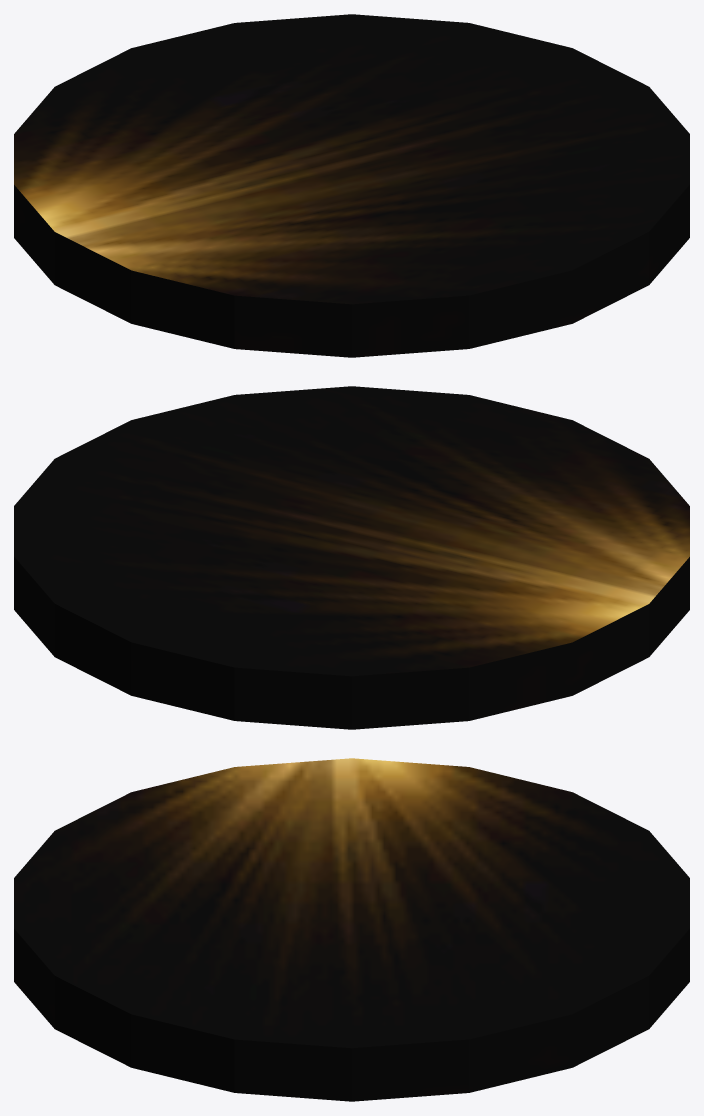
The model's file is world_jinbi2.obj.
The picture shows the model from 3 angles, top to bottom: view 1: azimuth 30°, elevation 25°; view 2: azimuth 150°, elevation 25°; view 3: azimuth 270°, elevation 25°; orthographic projection.
Visible parts, largest first — view 1: Cylinder01; view 2: Cylinder01; view 3: Cylinder01.
Boxes of the visible parts, x1,y1,x2,y2 form: Cylinder01: (14,14,689,357); Cylinder01: (14,386,689,729); Cylinder01: (14,758,689,1101).
Bounding box in the file's own units: 25.78 × 2.22 × 25.39.
1 material, 1 textured.
